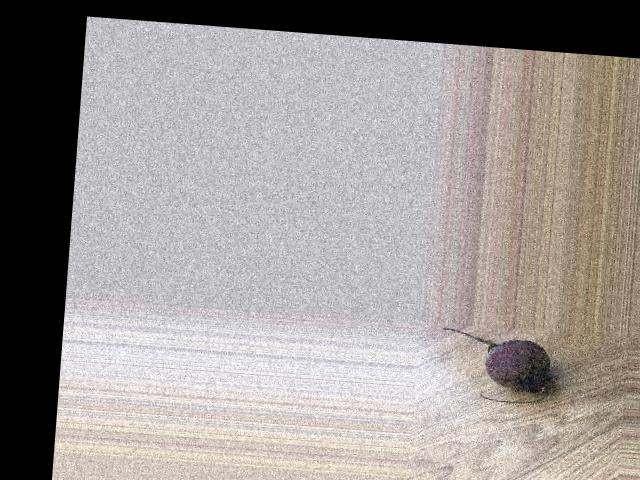beet: (437, 327, 555, 405)
